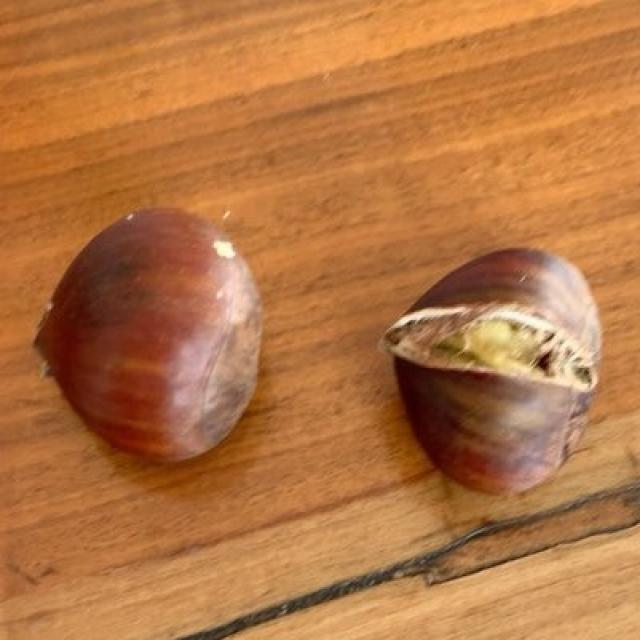nuts: (37, 215, 603, 504)
